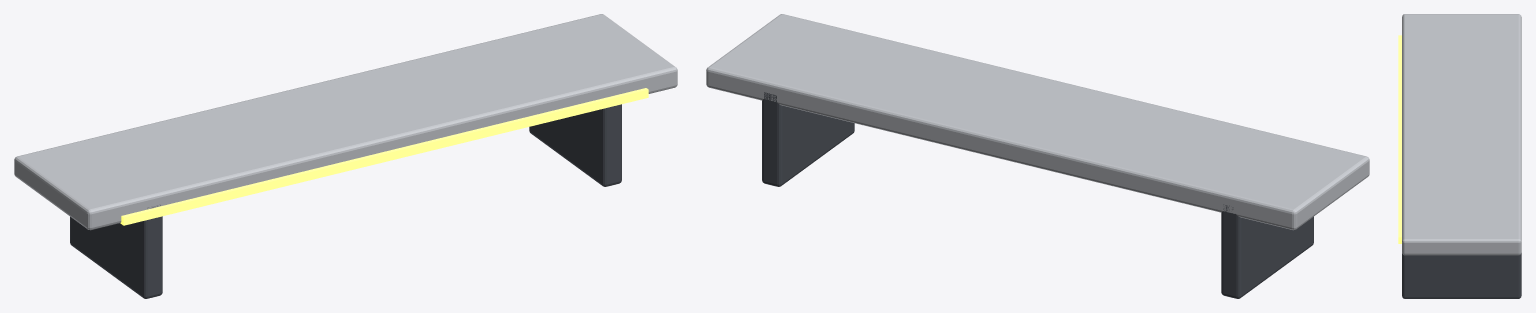
The model's file is wall_shelf_bracket_rack.glb.
3 views of the same model, side by side, from view 1: azimuth 30°, elevation 25°; view 2: azimuth 150°, elevation 25°; view 3: azimuth 270°, elevation 25° (orthographic). The views are drawn at different scales.
Parts seen in each view (by area): view 1: GD_wall_shelf_bracket_rack__m0, GD_wall_shelf_bracket_rack__m1, GD_wall_shelf_bracket_rack__m2; view 2: GD_wall_shelf_bracket_rack__m0, GD_wall_shelf_bracket_rack__m1; view 3: GD_wall_shelf_bracket_rack__m0, GD_wall_shelf_bracket_rack__m1, GD_wall_shelf_bracket_rack__m2.
Boxes of the visible parts, x1,y1,x2,y2 form: GD_wall_shelf_bracket_rack__m0: (14, 14, 677, 230); GD_wall_shelf_bracket_rack__m1: (70, 104, 621, 298); GD_wall_shelf_bracket_rack__m2: (120, 88, 648, 225); GD_wall_shelf_bracket_rack__m0: (706, 14, 1369, 230); GD_wall_shelf_bracket_rack__m1: (762, 92, 1313, 298); GD_wall_shelf_bracket_rack__m0: (1402, 14, 1521, 255); GD_wall_shelf_bracket_rack__m1: (1402, 253, 1521, 298); GD_wall_shelf_bracket_rack__m2: (1398, 35, 1401, 243).
Size of the model in its own units: 0.9 by 0.15 by 0.206.
